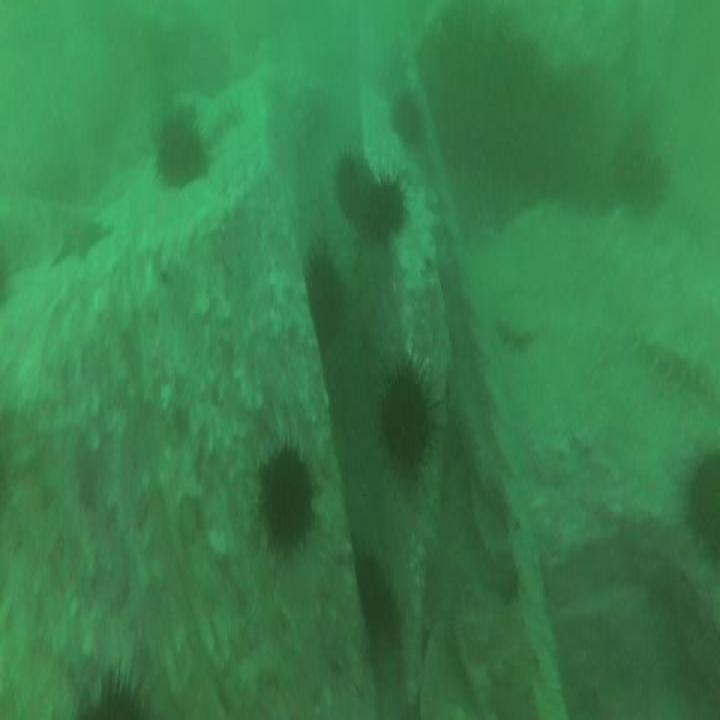echinus: (381, 370, 434, 471), (257, 455, 312, 546), (155, 124, 208, 188), (306, 254, 344, 342), (358, 558, 395, 636), (335, 151, 369, 222), (368, 183, 406, 235), (390, 96, 422, 142)
holothurian: (638, 323, 718, 410), (498, 311, 536, 352), (205, 99, 244, 137)
starfish: (54, 217, 107, 263)
